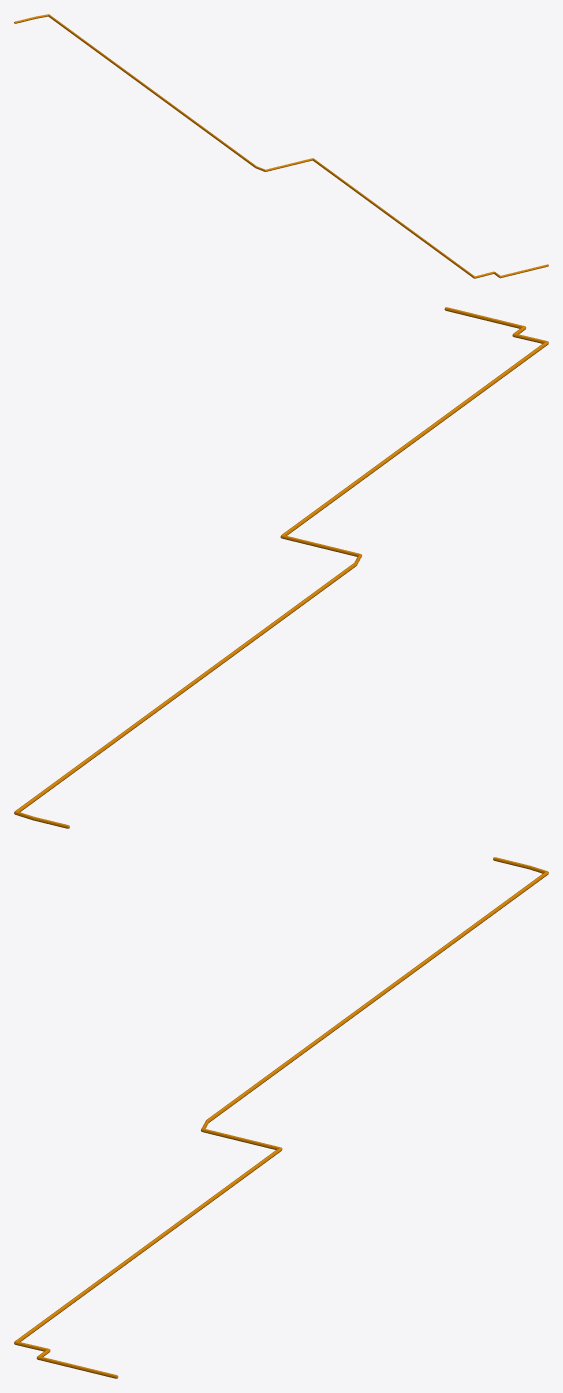
3 renders of one model, top to bottom at view 1: azimuth 30°, elevation 25°; view 2: azimuth 150°, elevation 25°; view 3: azimuth 330°, elevation 25°, orthographic. The views are drawn at different scales.
Bounding box in the file's own units: 1447 × 20 × 6281.
